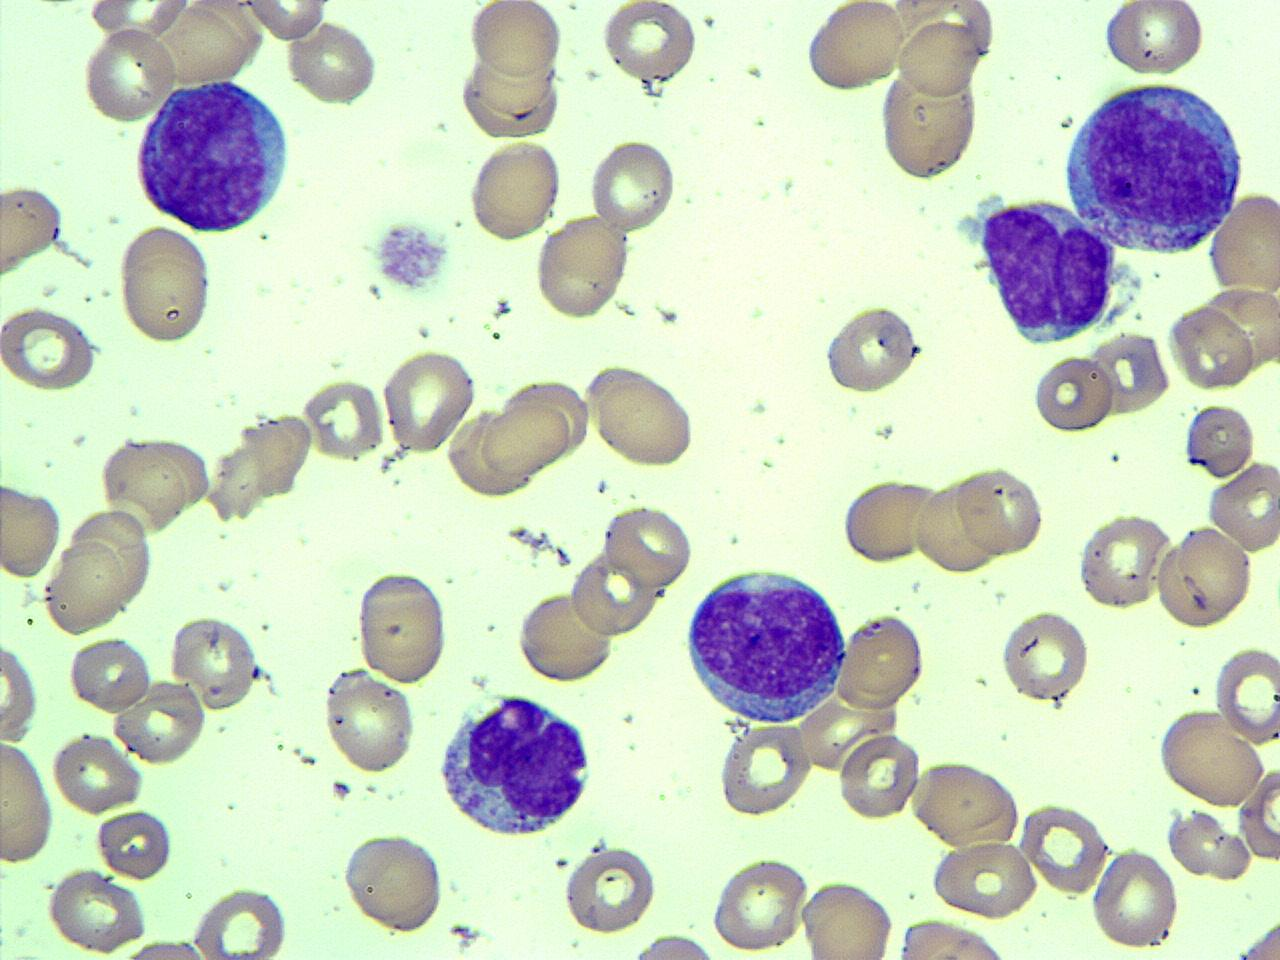Platelets: (370, 214, 450, 294), (954, 210, 984, 247), (447, 920, 484, 948), (494, 294, 514, 317)
RBC: (584, 361, 700, 471), (98, 431, 213, 536), (878, 66, 982, 183), (116, 221, 213, 345), (354, 568, 452, 686), (1154, 708, 1268, 809), (340, 828, 446, 935), (465, 136, 565, 243), (380, 345, 479, 454), (1154, 524, 1254, 631), (708, 854, 812, 954), (535, 212, 630, 322), (322, 669, 418, 775), (910, 758, 1022, 850), (1089, 844, 1182, 952), (79, 25, 178, 124), (1076, 509, 1172, 612), (802, 2, 908, 95), (586, 134, 682, 235), (718, 719, 814, 819), (821, 302, 921, 397), (514, 590, 615, 685), (168, 610, 262, 712), (45, 866, 151, 955), (456, 56, 564, 142), (998, 606, 1091, 706), (928, 838, 1040, 920), (562, 842, 659, 936), (0, 304, 100, 394), (838, 476, 938, 565), (837, 611, 929, 706), (953, 464, 1045, 559), (71, 505, 155, 607), (112, 677, 208, 766), (284, 18, 380, 108), (1020, 801, 1111, 894), (43, 535, 125, 637), (912, 481, 1000, 576), (1206, 187, 1280, 298), (50, 729, 146, 815), (598, 1, 698, 82), (602, 503, 696, 589), (467, 0, 566, 81), (836, 730, 922, 823), (1102, 0, 1206, 77), (798, 877, 896, 959), (1169, 301, 1255, 391), (193, 884, 294, 960), (895, 15, 984, 99), (1, 736, 57, 866), (300, 375, 384, 463), (65, 632, 152, 716), (482, 396, 572, 477), (1090, 330, 1170, 419), (1206, 458, 1280, 556), (1164, 804, 1254, 883), (1212, 642, 1280, 746), (1031, 352, 1115, 436), (0, 479, 63, 584), (0, 179, 65, 282), (239, 414, 315, 500), (94, 806, 177, 881), (1183, 398, 1257, 482), (892, 916, 1014, 959), (207, 437, 266, 524), (1237, 762, 1280, 866), (2, 636, 43, 744), (86, 0, 193, 38), (240, 0, 334, 43), (628, 930, 726, 960)
WBC: (1056, 74, 1250, 256), (679, 561, 851, 728), (131, 73, 297, 236), (435, 687, 596, 841), (970, 194, 1124, 348)
